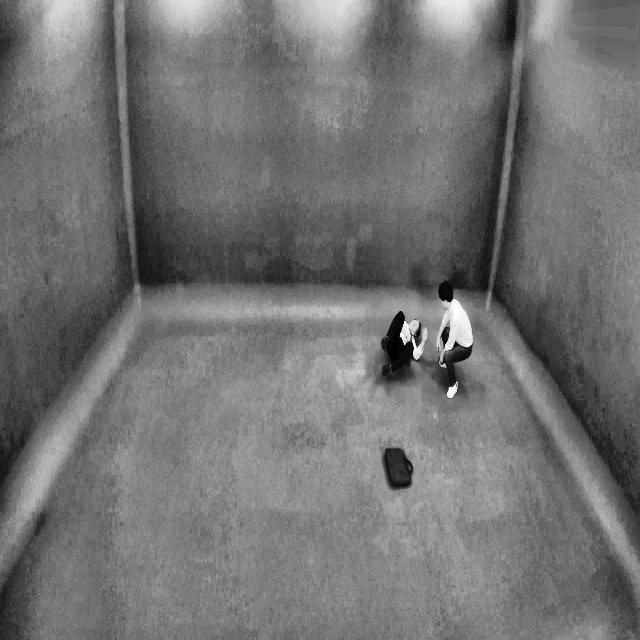assult: (372, 255, 476, 402), (378, 294, 436, 384)
